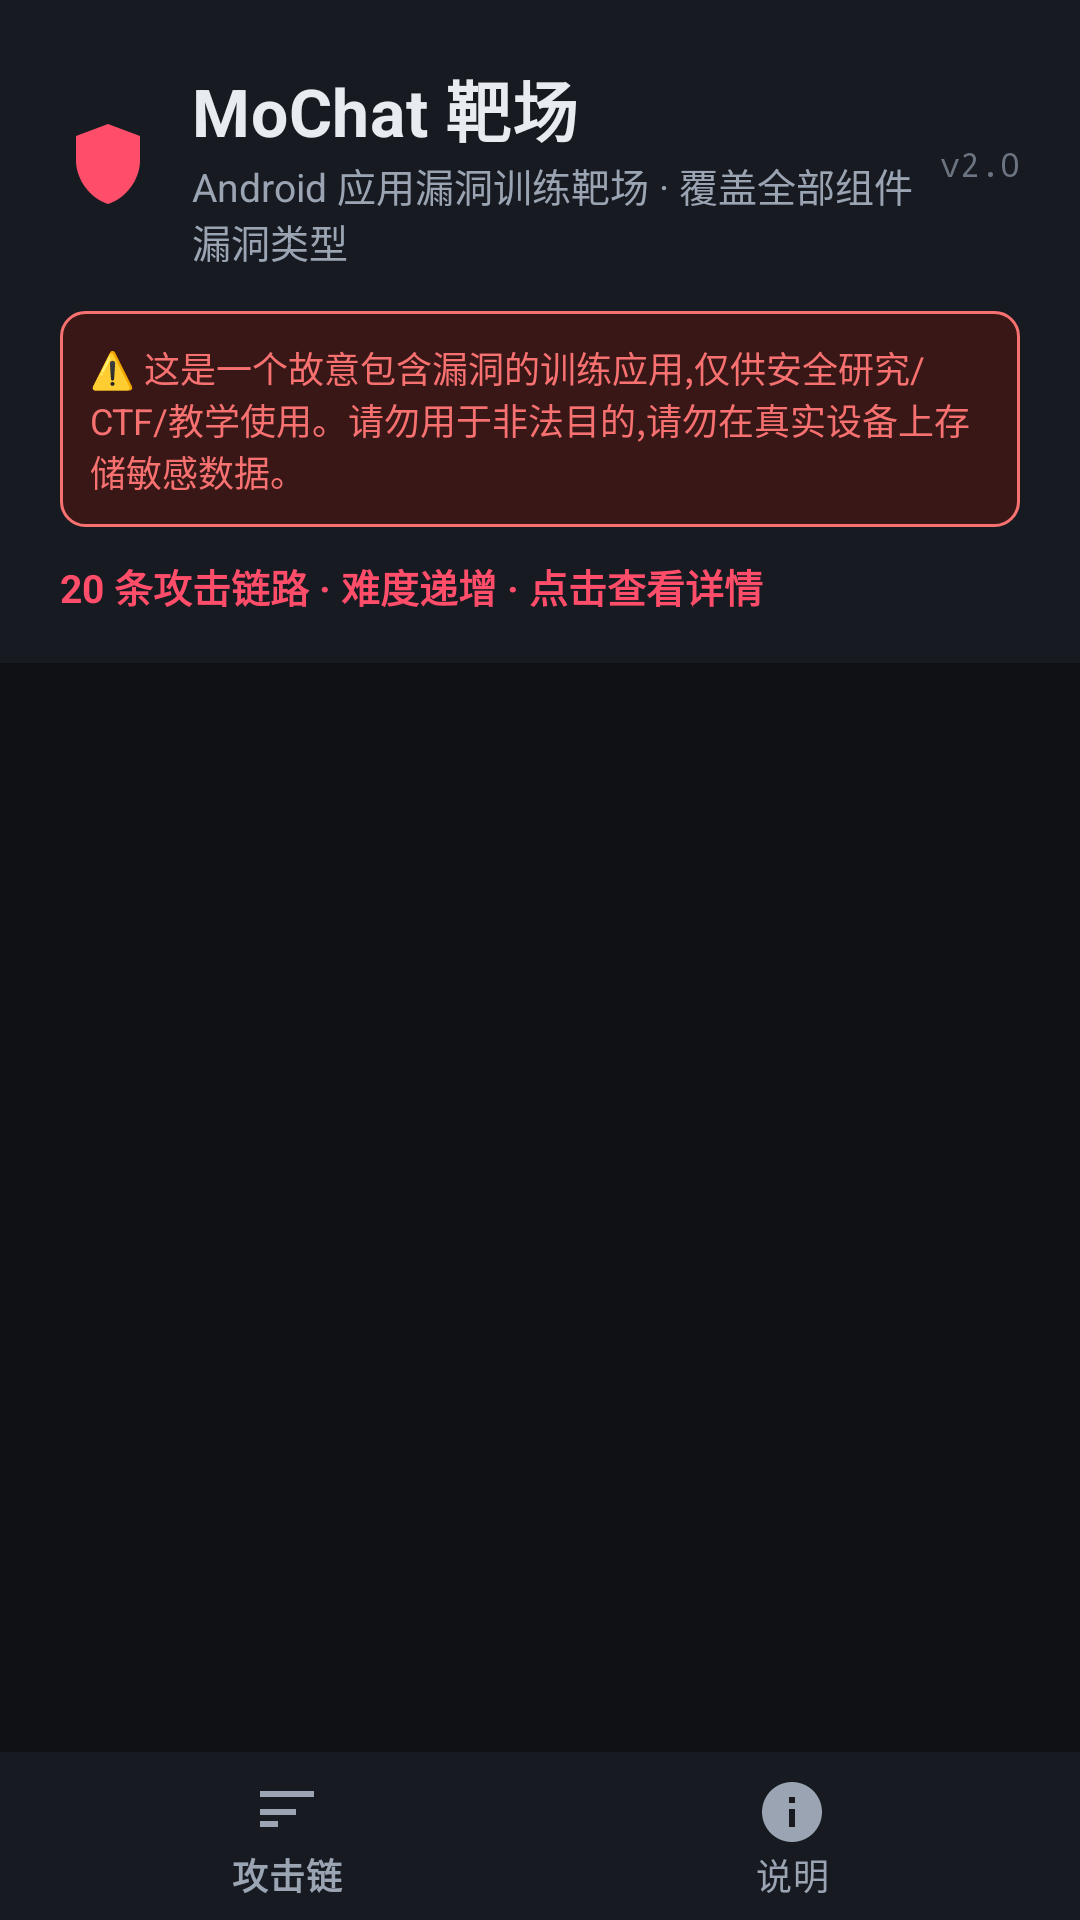

Named icons in this screenshot (1080x1920) and their bounding boxes, (x1, y1, x2, y2):
shield: (76, 124, 140, 204)
